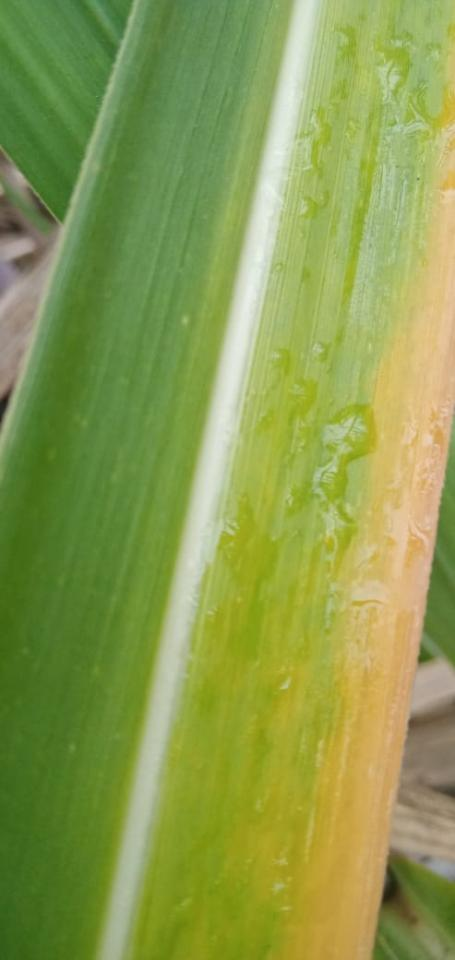Yellow: (235, 0, 454, 959)
